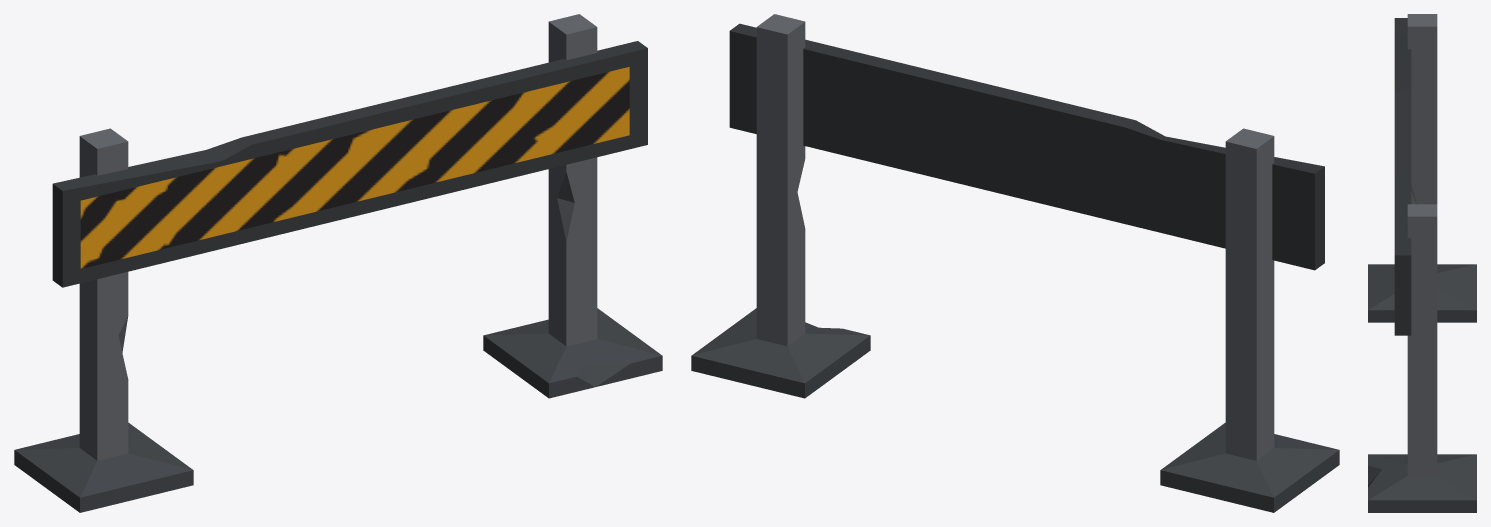
The model's file is SM_Prop_Barrier_01.fbx.
3 views of the same model, side by side, from view 1: azimuth 30°, elevation 25°; view 2: azimuth 150°, elevation 25°; view 3: azimuth 270°, elevation 25° (orthographic). The views are drawn at different scales.
Visible parts, largest first — view 1: SM_Prop_Barrier_01; view 2: SM_Prop_Barrier_01; view 3: SM_Prop_Barrier_01.
Boxes of the visible parts, left/top/right/bottom form: SM_Prop_Barrier_01: left=14, top=14, right=662, bottom=512; SM_Prop_Barrier_01: left=691, top=14, right=1339, bottom=512; SM_Prop_Barrier_01: left=1368, top=14, right=1476, bottom=512.
Size of the model in its own units: 198 by 109 by 38.42.
